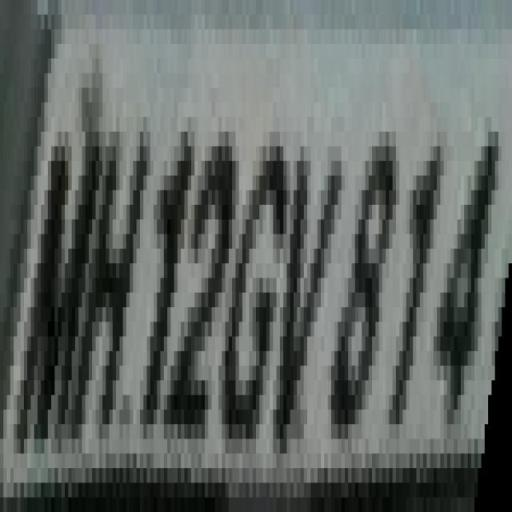number plate: (24, 14, 509, 498)
